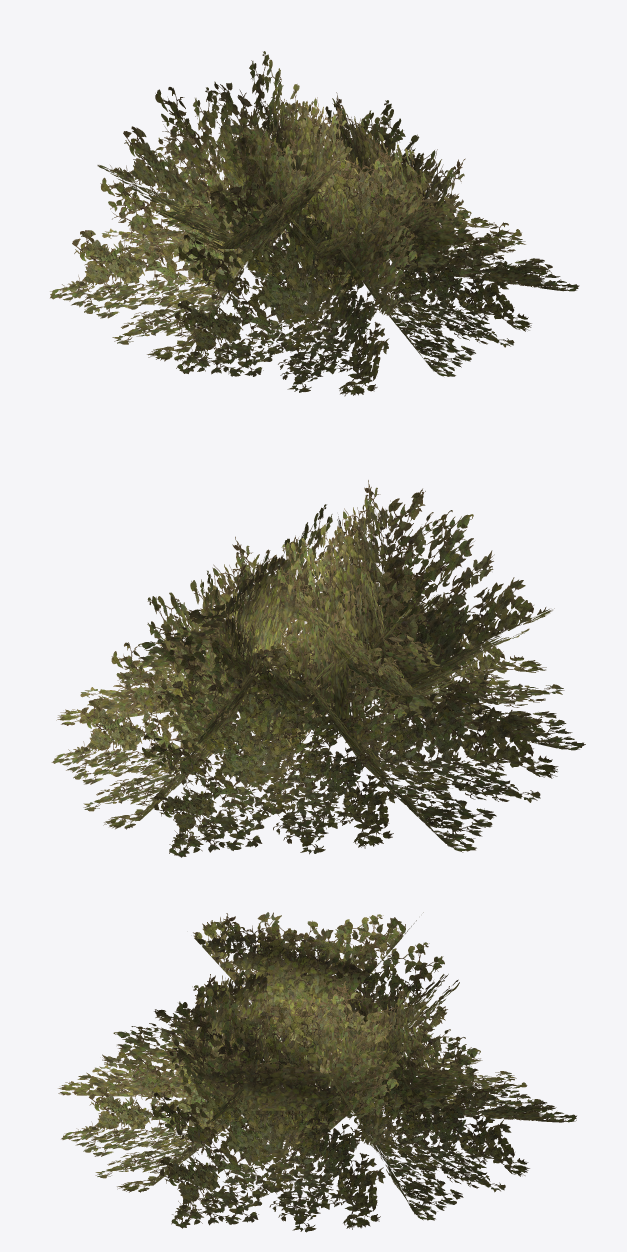
Rendered from shrb_giantlickbush_ltgreen_a2_l1.fbx.
The picture shows the model from 3 angles, top to bottom: view 1: azimuth 30°, elevation 25°; view 2: azimuth 150°, elevation 25°; view 3: azimuth 270°, elevation 25°; orthographic projection. The views are drawn at different scales.
Visible parts, largest first — view 1: mesh_node; view 2: mesh_node; view 3: mesh_node.
Boxes of the visible parts, box(x1,y1,x2,y2) form: mesh_node: box(50, 51, 579, 396); mesh_node: box(51, 480, 585, 857); mesh_node: box(58, 912, 576, 1232).
Size of the model in its own units: 4.28 by 2.25 by 5.1.
